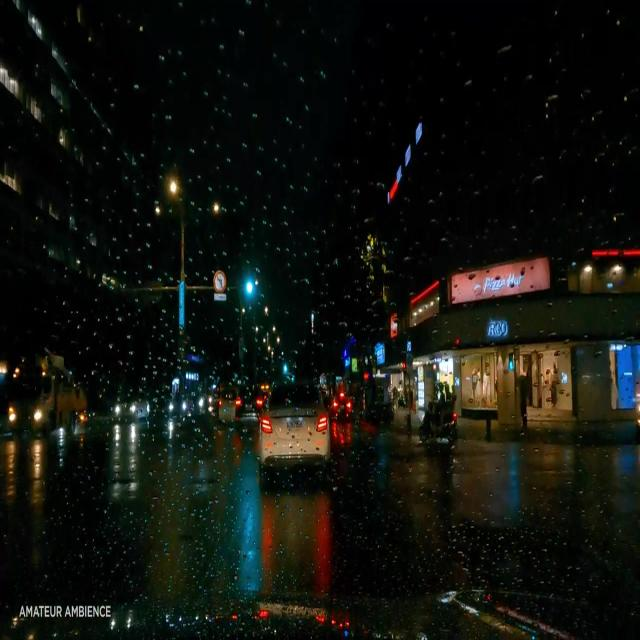Car: (259, 381, 328, 474), (115, 385, 148, 421), (234, 383, 262, 420)
